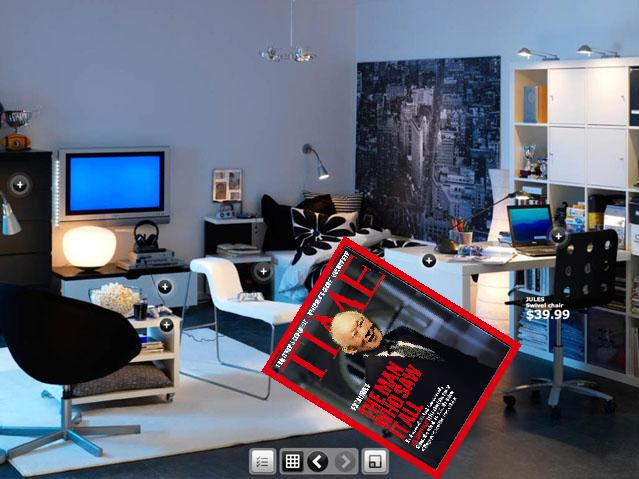times: (261, 236, 524, 478)
